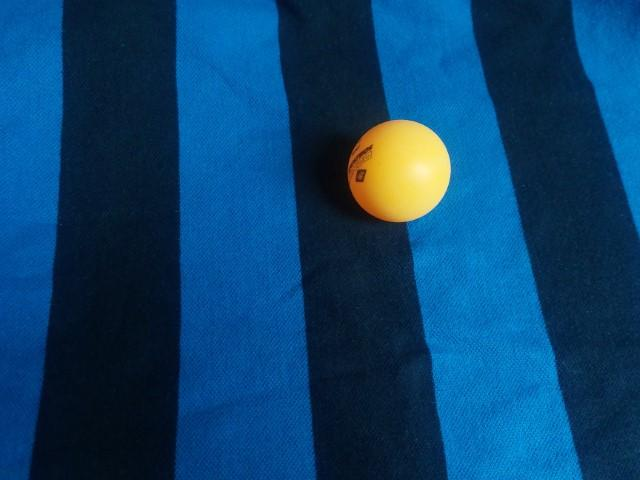oball: (179, 250, 297, 369)
